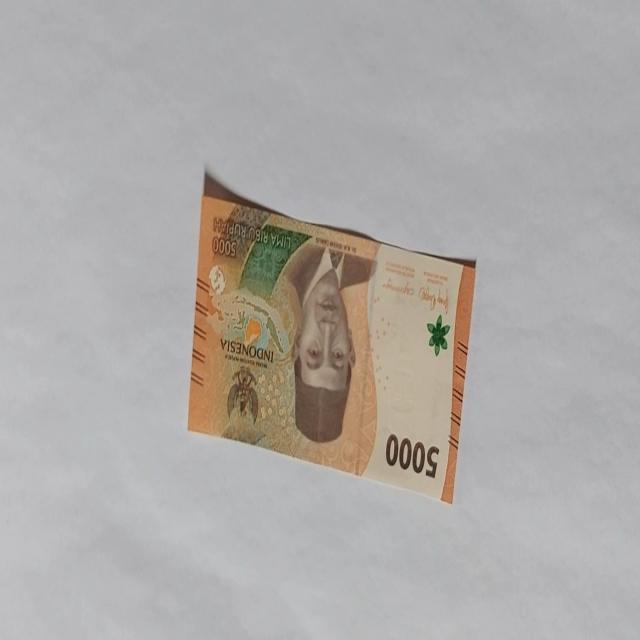lima ribu rupiah: (186, 169, 476, 505), (288, 242, 358, 444)
